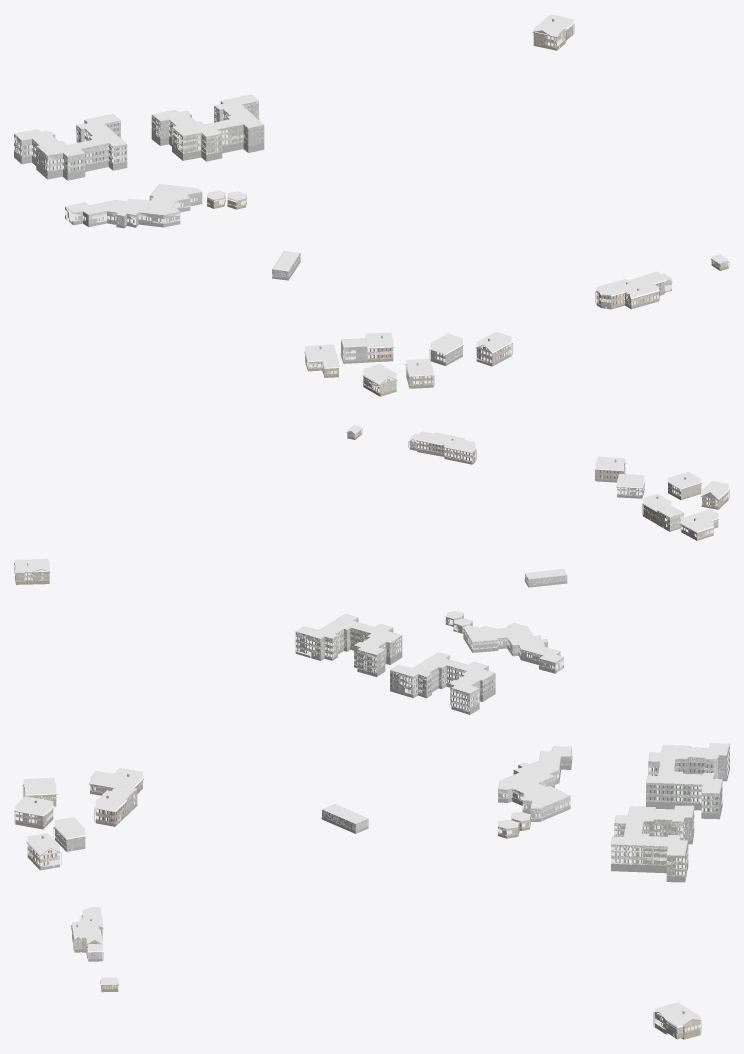
The picture shows the model from 3 angles, top to bottom: view 1: azimuth 30°, elevation 25°; view 2: azimuth 150°, elevation 25°; view 3: azimuth 270°, elevation 25°; orthographic projection. The views are drawn at different scales.
Visible parts, largest first — view 1: col, bld; view 2: col, bld; view 3: col, bld.
Part boxes in pixels (<box>): col: <box>14,14,728,393</box>; bld: <box>14,19,729,396</box>; col: <box>14,425,728,711</box>; bld: <box>14,428,729,714</box>; col: <box>15,743,729,1037</box>; bld: <box>14,743,729,1039</box>.
Bounding box in the file's own units: 258 × 16.15 × 266.
